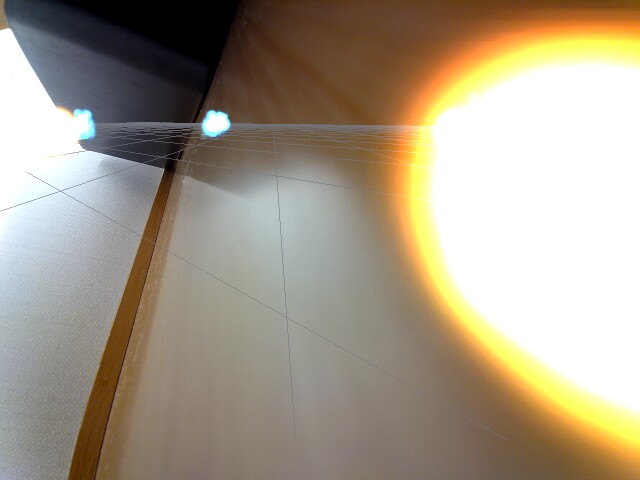firebig: (372, 22, 640, 447)
